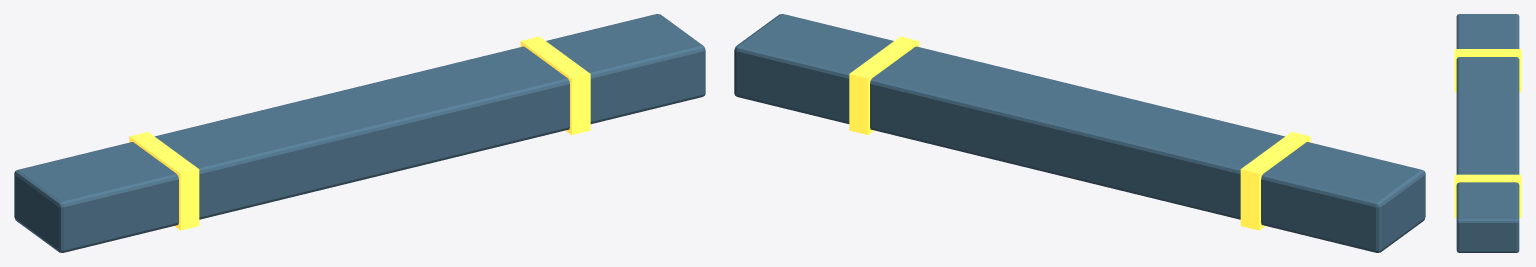
File: steel-cargo-v4-low.glb
3 views of the same model, side by side, from view 1: azimuth 30°, elevation 25°; view 2: azimuth 150°, elevation 25°; view 3: azimuth 270°, elevation 25° (orthographic). The views are drawn at different scales.
Parts seen in each view (by area): view 1: cargo-rebar-bundle.001, cargo-strap-a.001, cargo-strap-b.001; view 2: cargo-rebar-bundle.001, cargo-strap-a.001, cargo-strap-b.001; view 3: cargo-rebar-bundle.001, cargo-strap-b.001, cargo-strap-a.001.
Boxes of the visible parts, x1,y1,x2,y2 form: cargo-rebar-bundle.001: (14, 14, 705, 252); cargo-strap-a.001: (129, 132, 199, 230); cargo-strap-b.001: (520, 36, 590, 134); cargo-rebar-bundle.001: (734, 14, 1425, 252); cargo-strap-a.001: (1240, 132, 1310, 230); cargo-strap-b.001: (849, 36, 919, 134); cargo-rebar-bundle.001: (1456, 14, 1519, 252); cargo-strap-b.001: (1454, 174, 1521, 217); cargo-strap-a.001: (1454, 49, 1521, 92).
Size of the model in its own units: 8.6 by 0.72 by 1.18.
